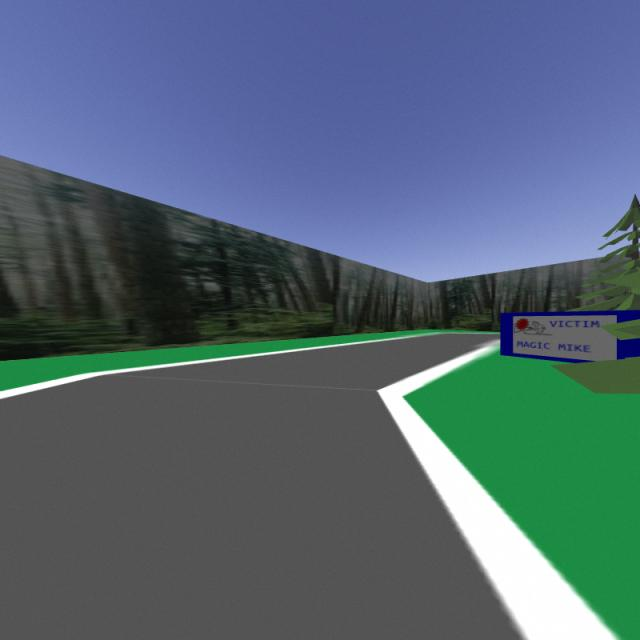clueboard: (496, 308, 640, 368)
